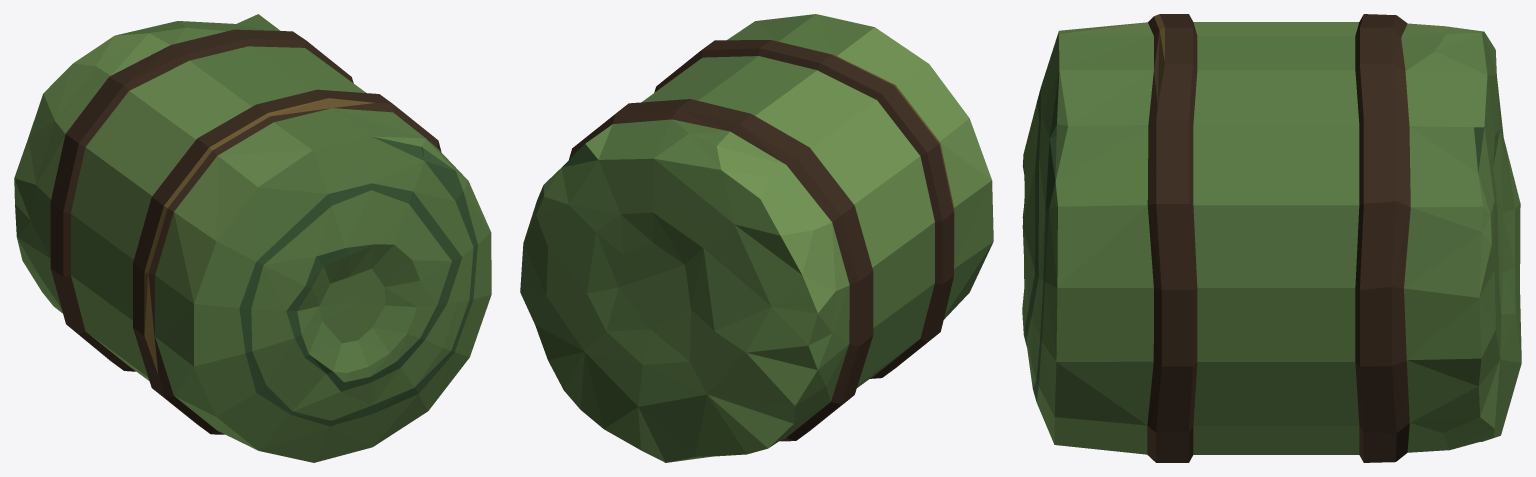
File: EA_M_HayBale_Green_01b.fbx
3 views of the same model, side by side, from view 1: azimuth 30°, elevation 25°; view 2: azimuth 150°, elevation 25°; view 3: azimuth 270°, elevation 25° (orthographic). The views are drawn at different scales.
Visible parts, largest first — view 1: EA_M_HayBale_Green_01b_LOD0; view 2: EA_M_HayBale_Green_01b_LOD0; view 3: EA_M_HayBale_Green_01b_LOD0.
Boxes of the visible parts, x1,y1,x2,y2 form: EA_M_HayBale_Green_01b_LOD0: (14, 14, 491, 462); EA_M_HayBale_Green_01b_LOD0: (520, 14, 993, 462); EA_M_HayBale_Green_01b_LOD0: (1022, 14, 1521, 462).
Size of what is drawn, in the model's own units: 1.39 by 1.39 by 1.63.
